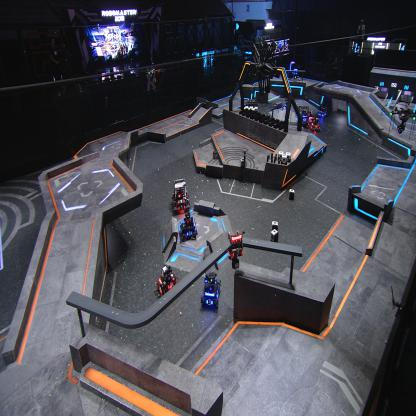car: (200, 271, 221, 310), (156, 264, 178, 299), (171, 177, 190, 215), (180, 209, 198, 240), (296, 104, 310, 128), (244, 98, 258, 120), (315, 102, 327, 120), (310, 116, 320, 131), (282, 96, 292, 110), (306, 111, 316, 124)
